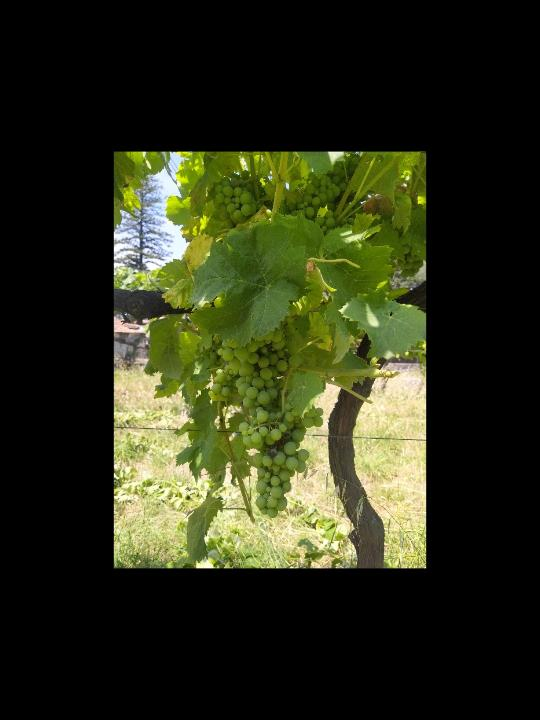grape: (237, 405, 324, 519), (206, 327, 303, 413), (287, 153, 361, 234), (206, 170, 265, 225)
